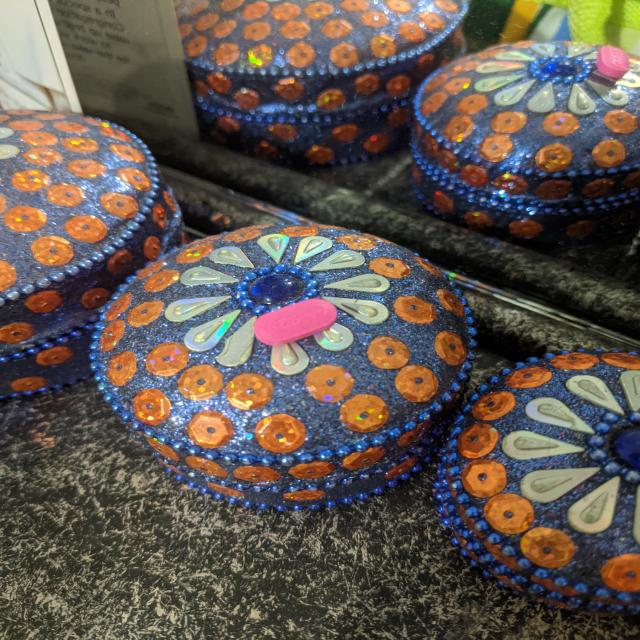non-organic waste: (253, 297, 338, 347)
